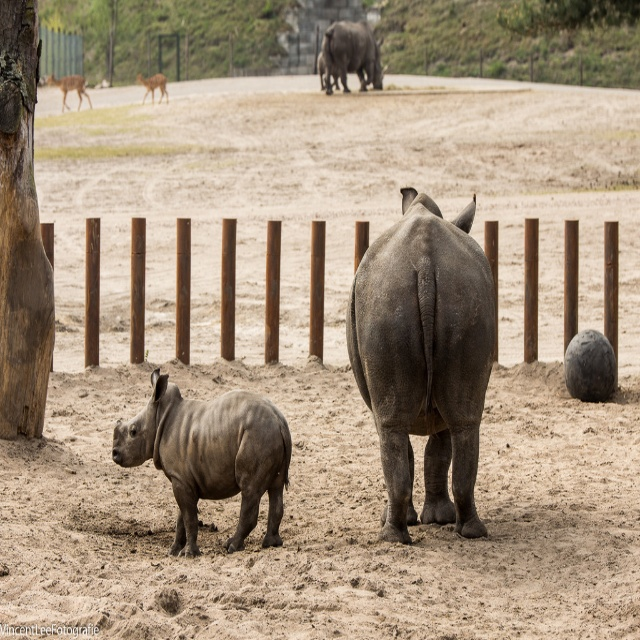Rhinoceros: (340, 183, 495, 548), (112, 372, 298, 565), (317, 17, 384, 94)
